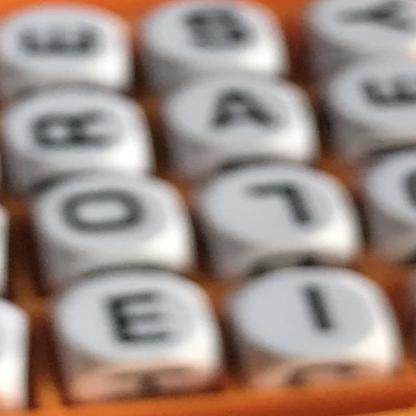a: (190, 79, 294, 143)
e: (80, 281, 193, 359), (1, 5, 115, 68), (342, 64, 416, 124)
i: (270, 272, 368, 347)
l: (222, 160, 337, 251)
o: (39, 179, 161, 249), (383, 158, 416, 226)
r: (22, 100, 131, 161)
s: (164, 1, 262, 59)
y: (309, 1, 416, 55)
